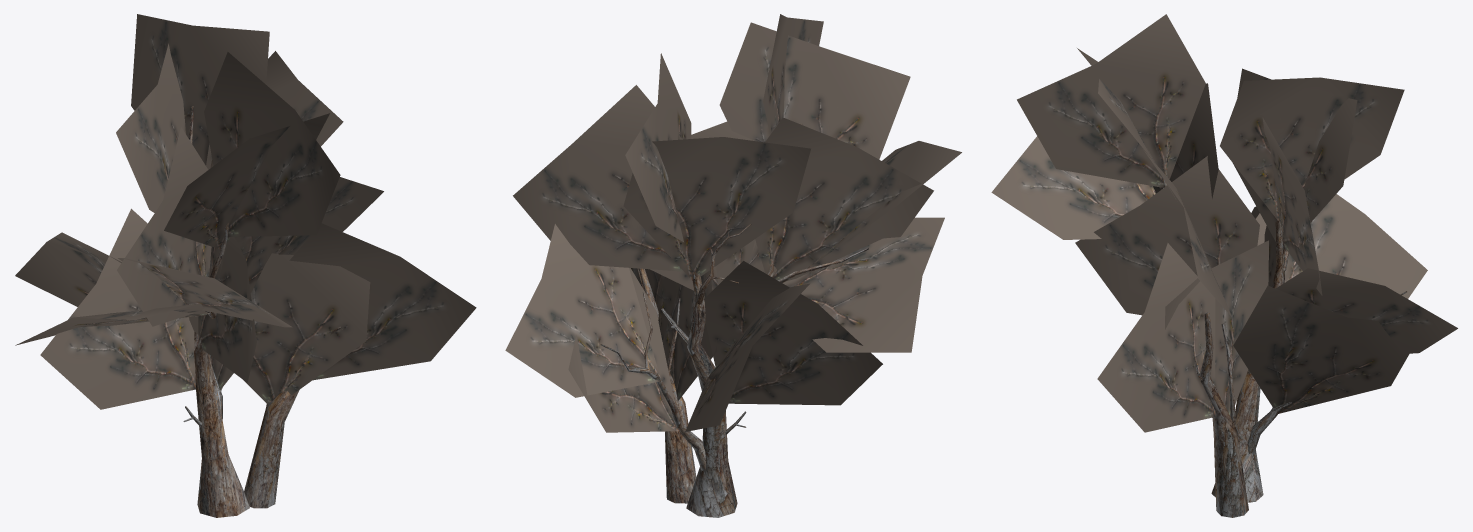
The model's file is Deadtree2_LOD1.fbx.
The picture shows the model from 3 angles, left to right: view 1: azimuth 30°, elevation 25°; view 2: azimuth 150°, elevation 25°; view 3: azimuth 270°, elevation 25°; orthographic projection. The views are drawn at different scales.
Parts seen in each view (by area): view 1: polySurface113; view 2: polySurface113; view 3: polySurface113.
Boxes of the visible parts, x1,y1,x2,y2 form: polySurface113: [15, 14, 476, 517]; polySurface113: [505, 14, 961, 517]; polySurface113: [991, 14, 1457, 517].
Bounding box in the file's own units: 5.14 × 6.24 × 5.66.
